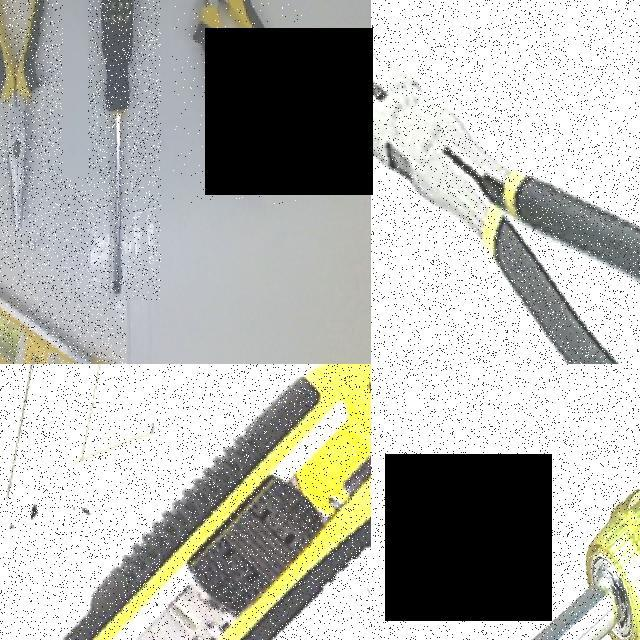estilete: (66, 365, 369, 639)
